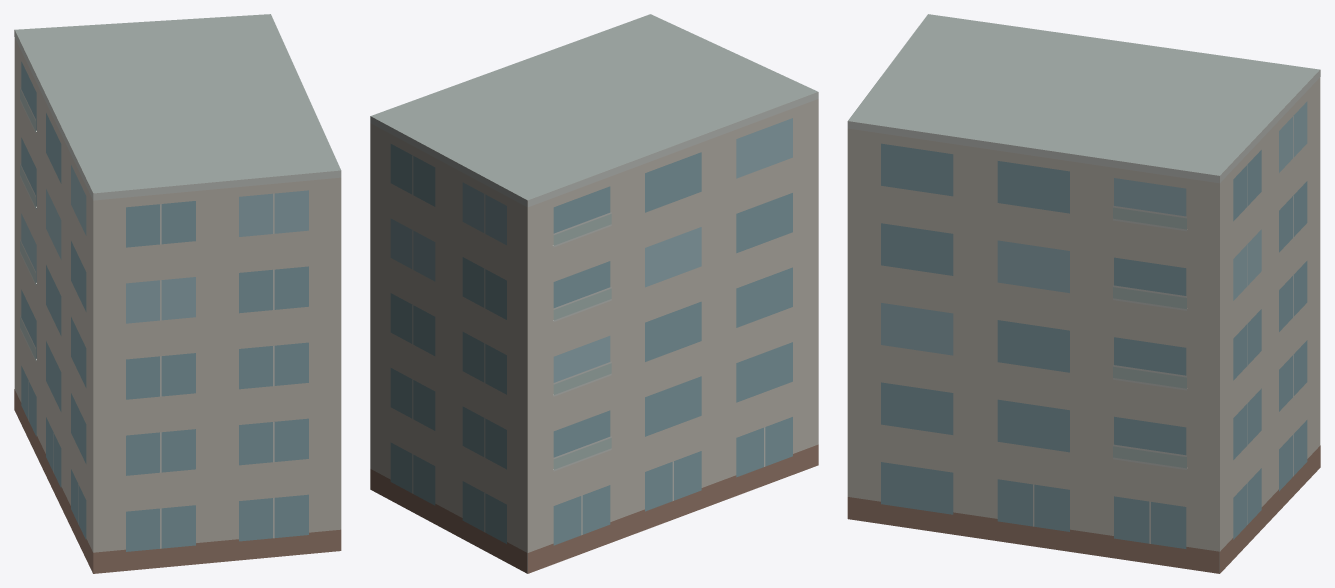
The model's file is survey-upis-32849534.glb.
3 renders of one model, left to right at view 1: azimuth 30°, elevation 25°; view 2: azimuth 150°, elevation 25°; view 3: azimuth 270°, elevation 25°, orthographic. The views are drawn at different scales.
Visible parts, largest first — view 1: survey-upis-32849534.tmp; view 2: survey-upis-32849534.tmp; view 3: survey-upis-32849534.tmp.
Part boxes in pixels (x1,y1,x2,y2): survey-upis-32849534.tmp: (14,14,341,573); survey-upis-32849534.tmp: (370,14,818,573); survey-upis-32849534.tmp: (847,14,1320,573).
Size of the model in its own units: 11.35 by 13 by 14.
